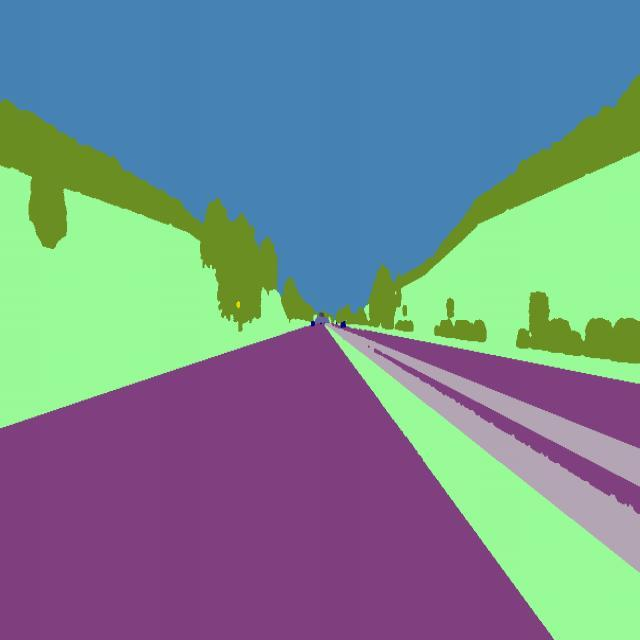safe: (338, 317, 348, 333), (305, 316, 317, 329)
